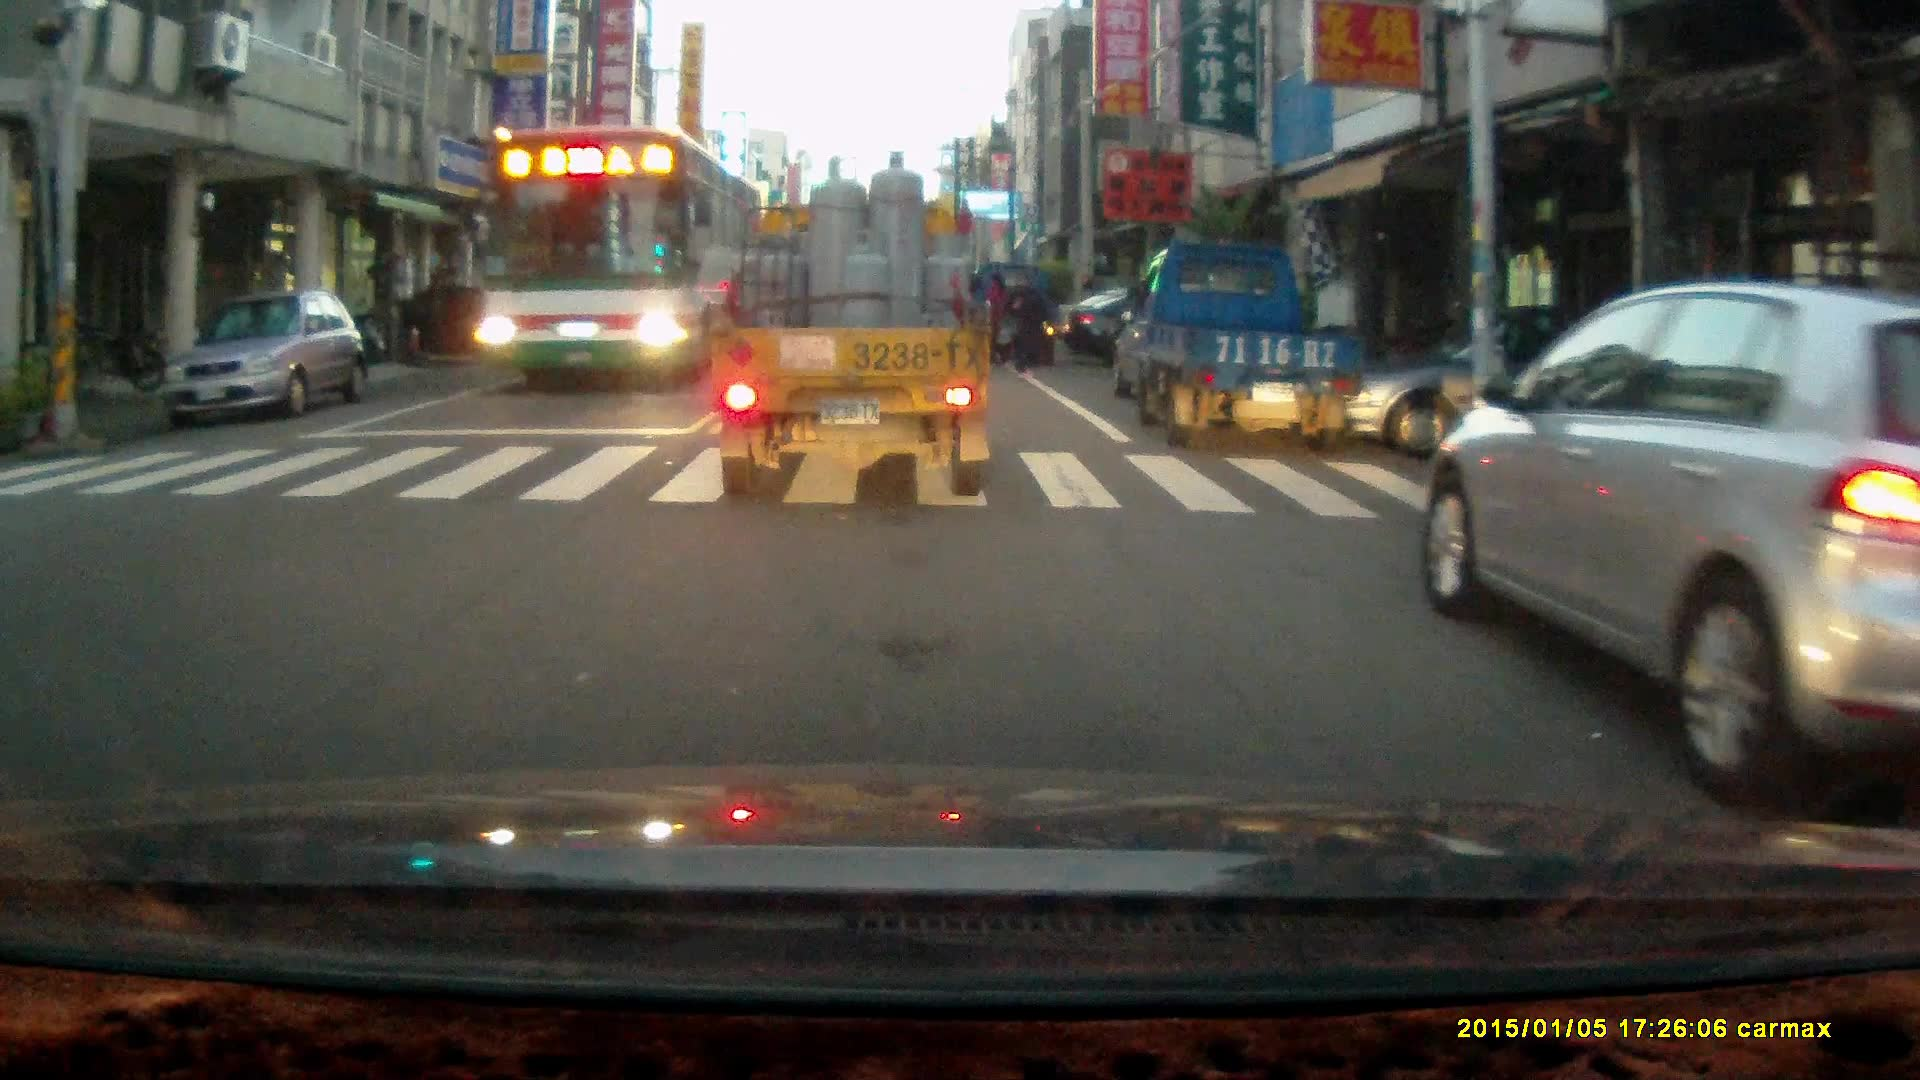pedestrian: (1004, 271, 1047, 376), (981, 274, 1009, 373)
vehicle: (1421, 281, 1920, 810), (712, 149, 999, 502), (475, 127, 760, 394), (1116, 240, 1365, 454), (1360, 323, 1657, 451), (158, 288, 369, 427), (326, 281, 545, 365), (970, 265, 1067, 375)
